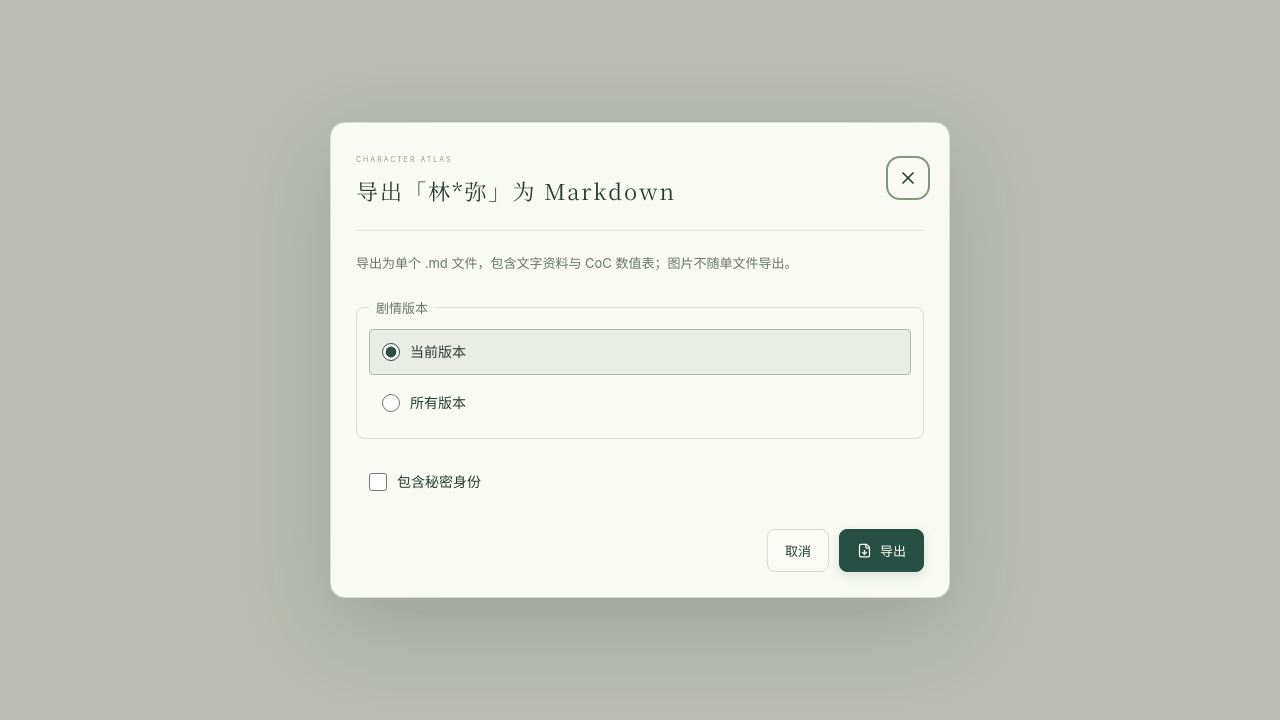
it: 导出对话框：勾选秘密时显示非加密提示
Check: the text "不是加密" is not shown
Click the checkbox labelled "包含秘密身份" at (378, 482), box x1=369 y1=473 x2=387 y2=491
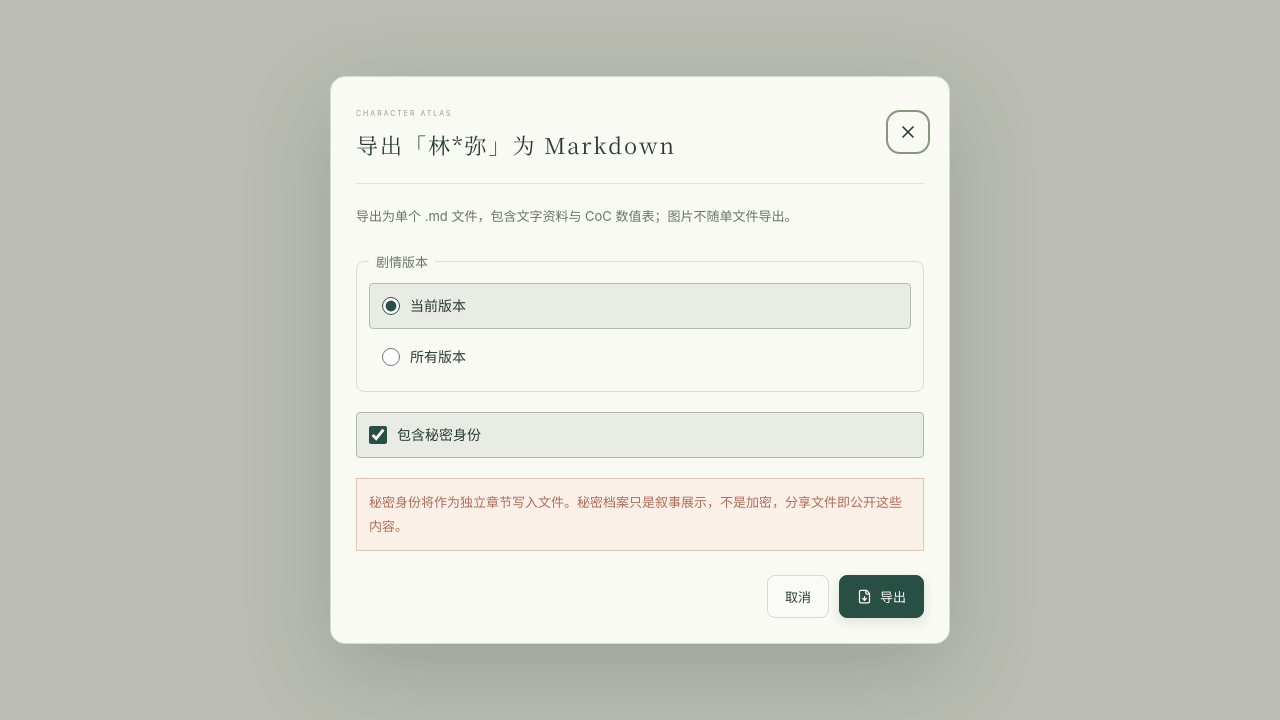
Check: the radio button labelled "所有版本" is shown, box x1=382 y1=348 x2=400 y2=366
Check: the text "不是加密" is shown, box x1=720 y1=494 x2=772 y2=510
